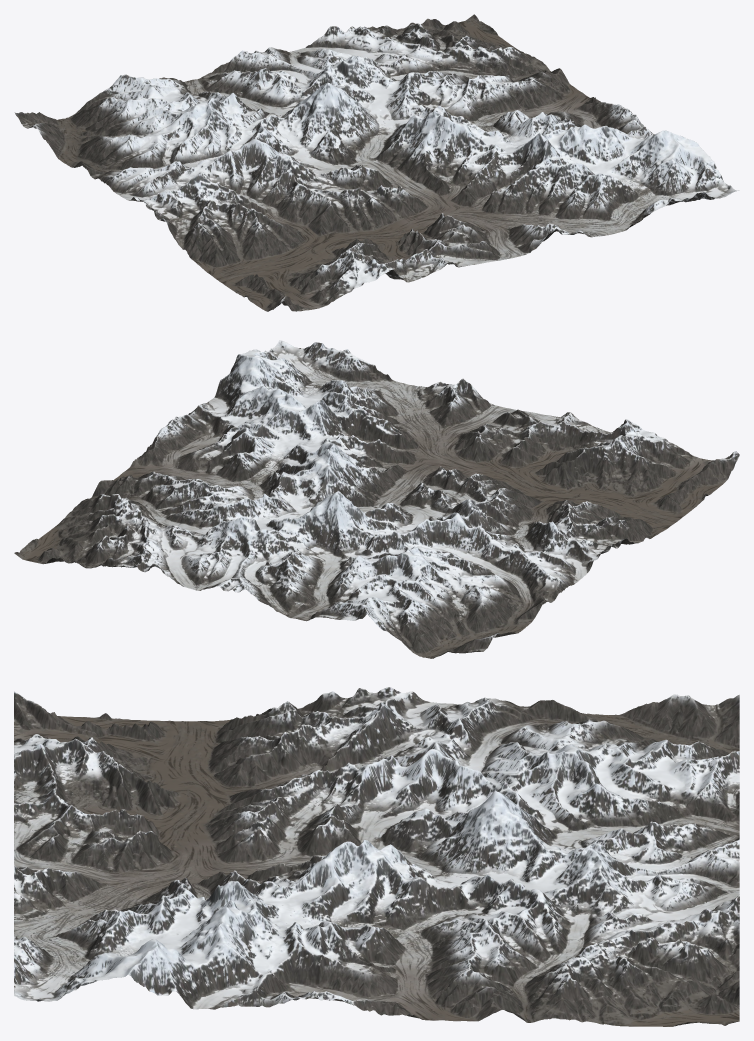
Rendered from k2_terrain.glb.
3 renders of one model, top to bottom at view 1: azimuth 30°, elevation 25°; view 2: azimuth 150°, elevation 25°; view 3: azimuth 270°, elevation 25°, orthographic. The views are drawn at different scales.
Visible parts, largest first — view 1: Terrain; view 2: Terrain; view 3: Terrain.
Boxes of the visible parts, left/top/right/bottom form: Terrain: left=14, top=14, right=739, bottom=311; Terrain: left=14, top=340, right=739, bottom=658; Terrain: left=14, top=687, right=739, bottom=1026.
Bounding box in the file's own units: 36886 × 4527 × 36881.
Materials: 1 (1 with a texture image).
